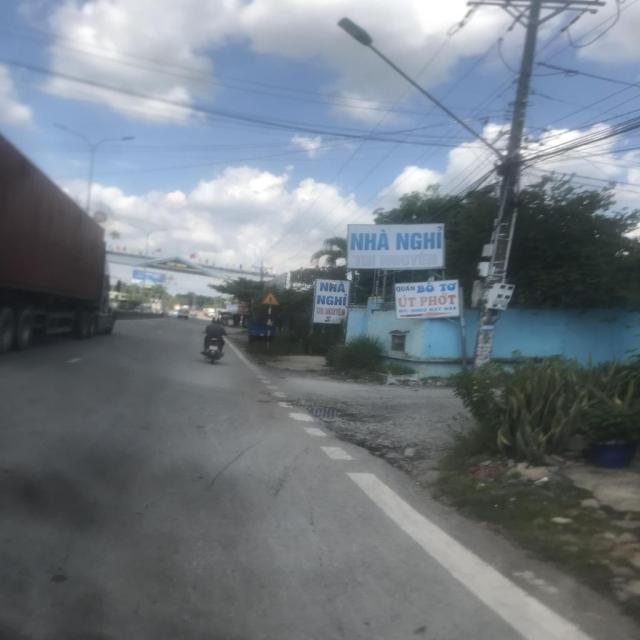chu_y_nguoi_di_bo_cat_ngang: (260, 291, 281, 305)
